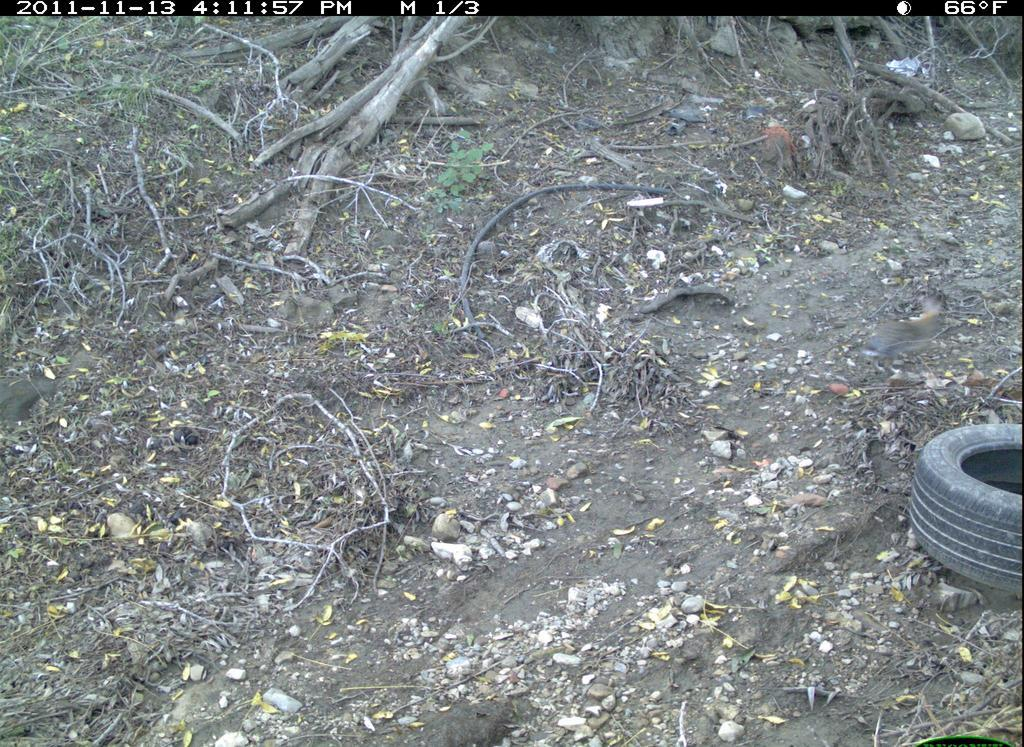rabbit: (863, 290, 952, 370)
